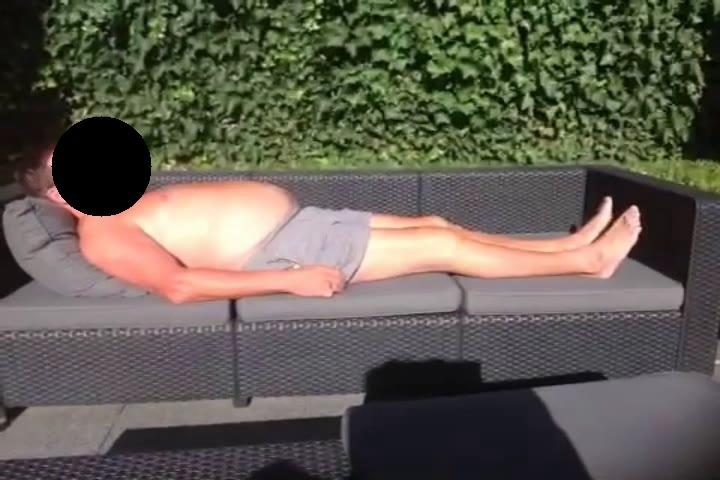lower_body: (281, 194, 645, 288)
